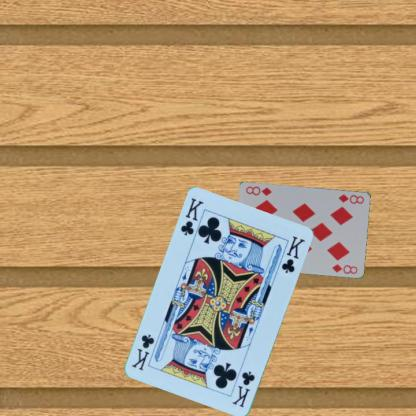8d: (336, 191, 365, 205)
Kc: (178, 196, 206, 237), (230, 369, 257, 409)
